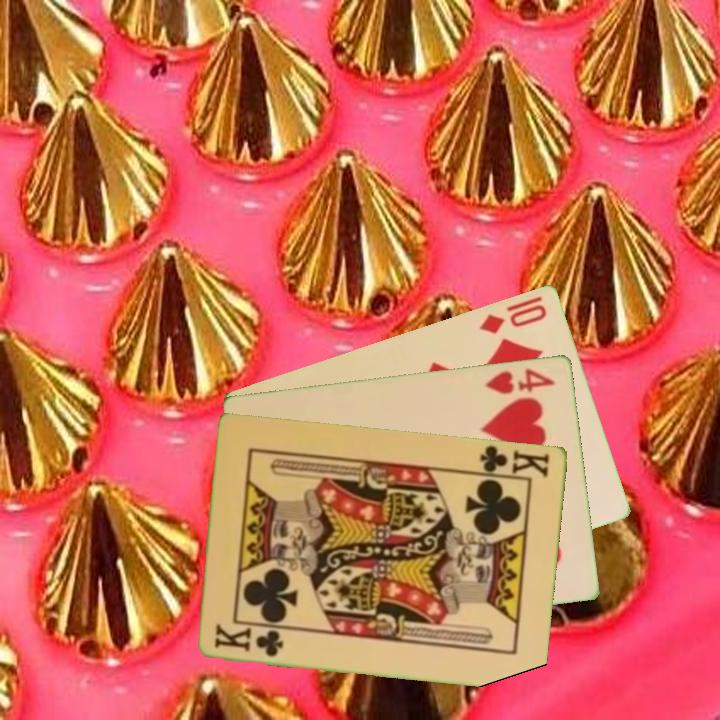10d: (476, 300, 550, 337)
4h: (482, 364, 559, 396)
Kc: (472, 441, 553, 481), (212, 621, 287, 660)
